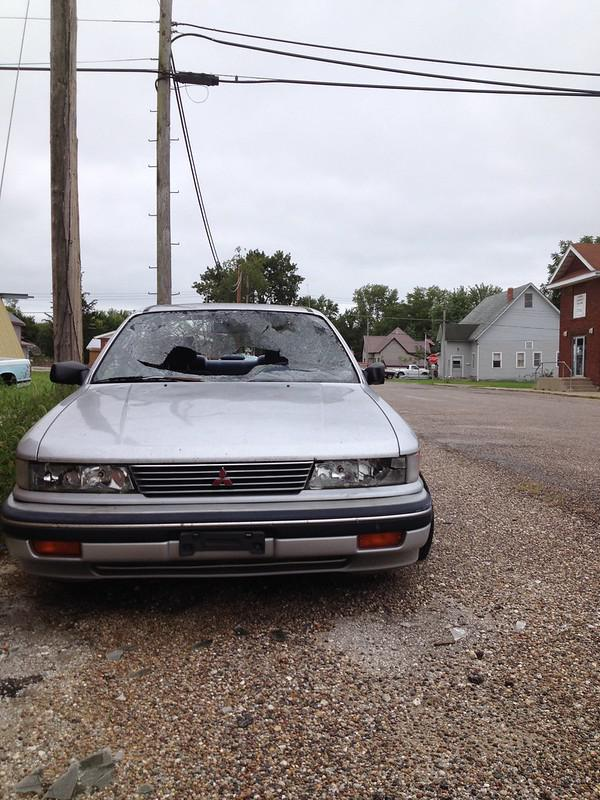Front-Windscreen-Damage: (99, 298, 332, 382)
